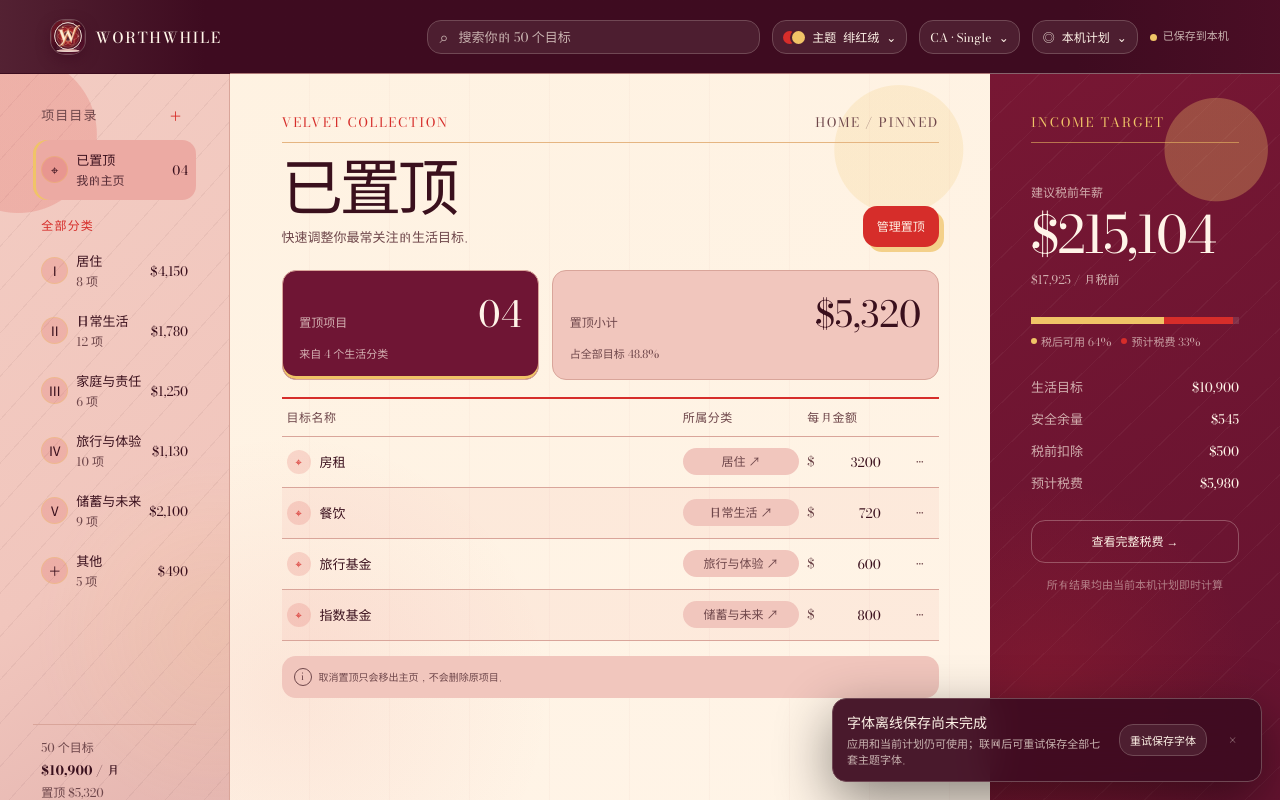
Test: local-first planner › navigates to a category and progressively reveals a long list
The image size is (1280, 800).
Click the button named "日常生活12 项" at (115, 331), box left=33, top=301, right=196, bottom=361
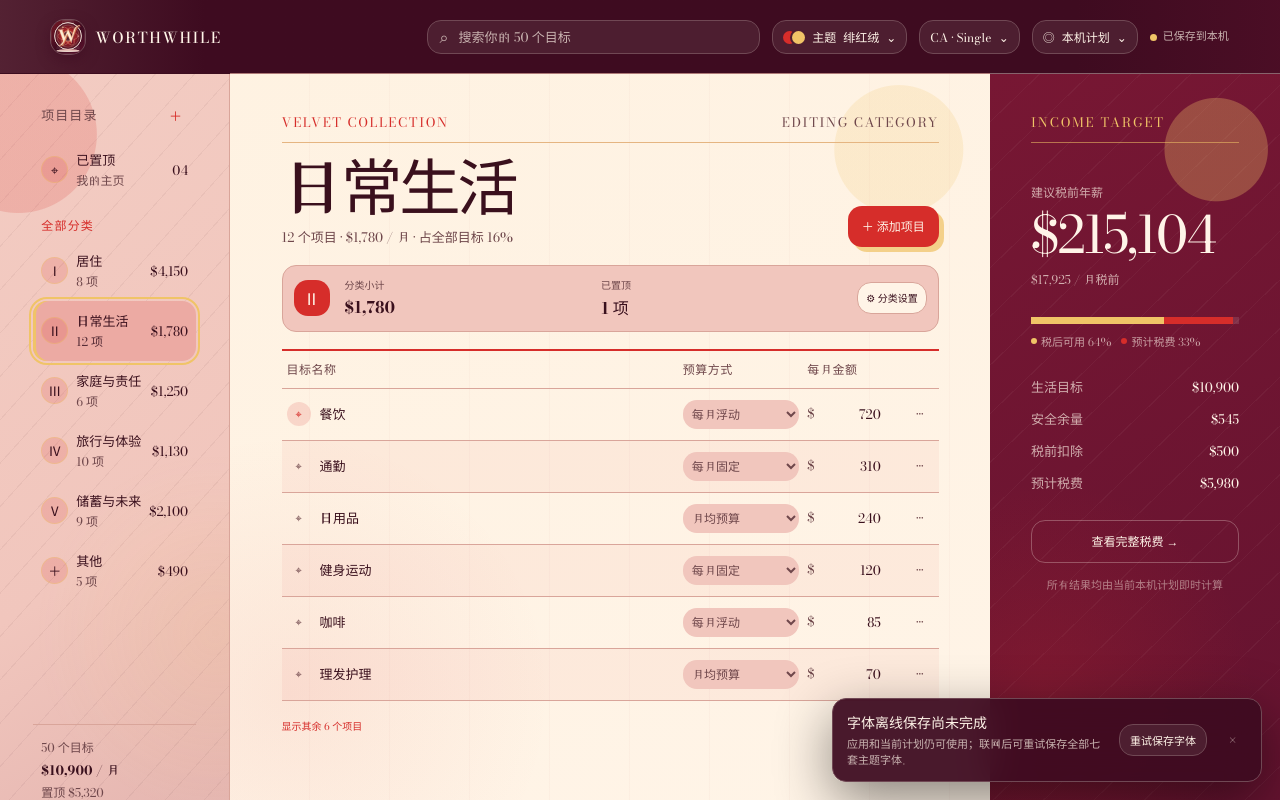
Result: the heading "日常生活" is shown at left=282, top=161, right=515, bottom=217
Result: the number of elements with class "goal-row" is 6 at left=282, top=389, right=939, bottom=441; left=282, top=441, right=939, bottom=493; left=282, top=493, right=939, bottom=545; left=282, top=545, right=939, bottom=597; left=282, top=597, right=939, bottom=649; left=282, top=649, right=939, bottom=701
Click the button "显示其余 6 个项目" at (322, 726), box left=282, top=711, right=362, bottom=741
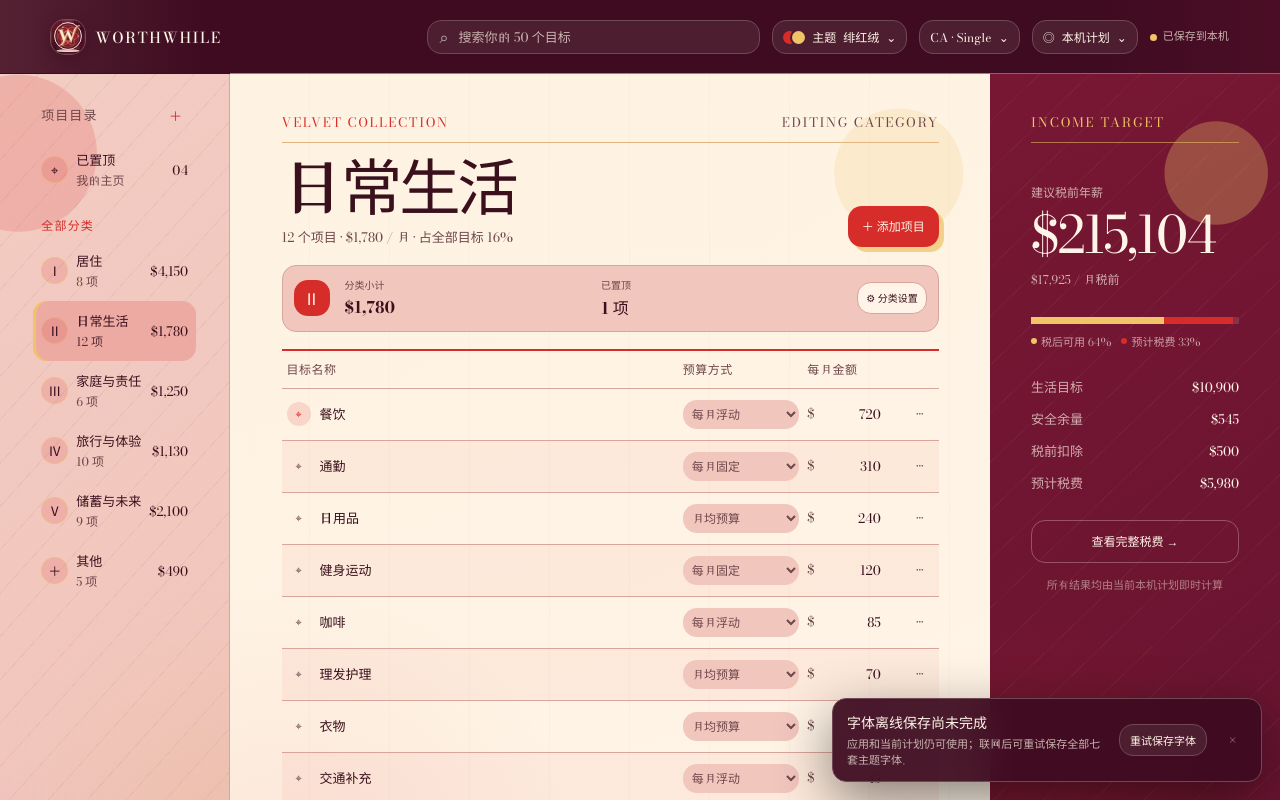
Result: the number of elements with class "goal-row" is 12
